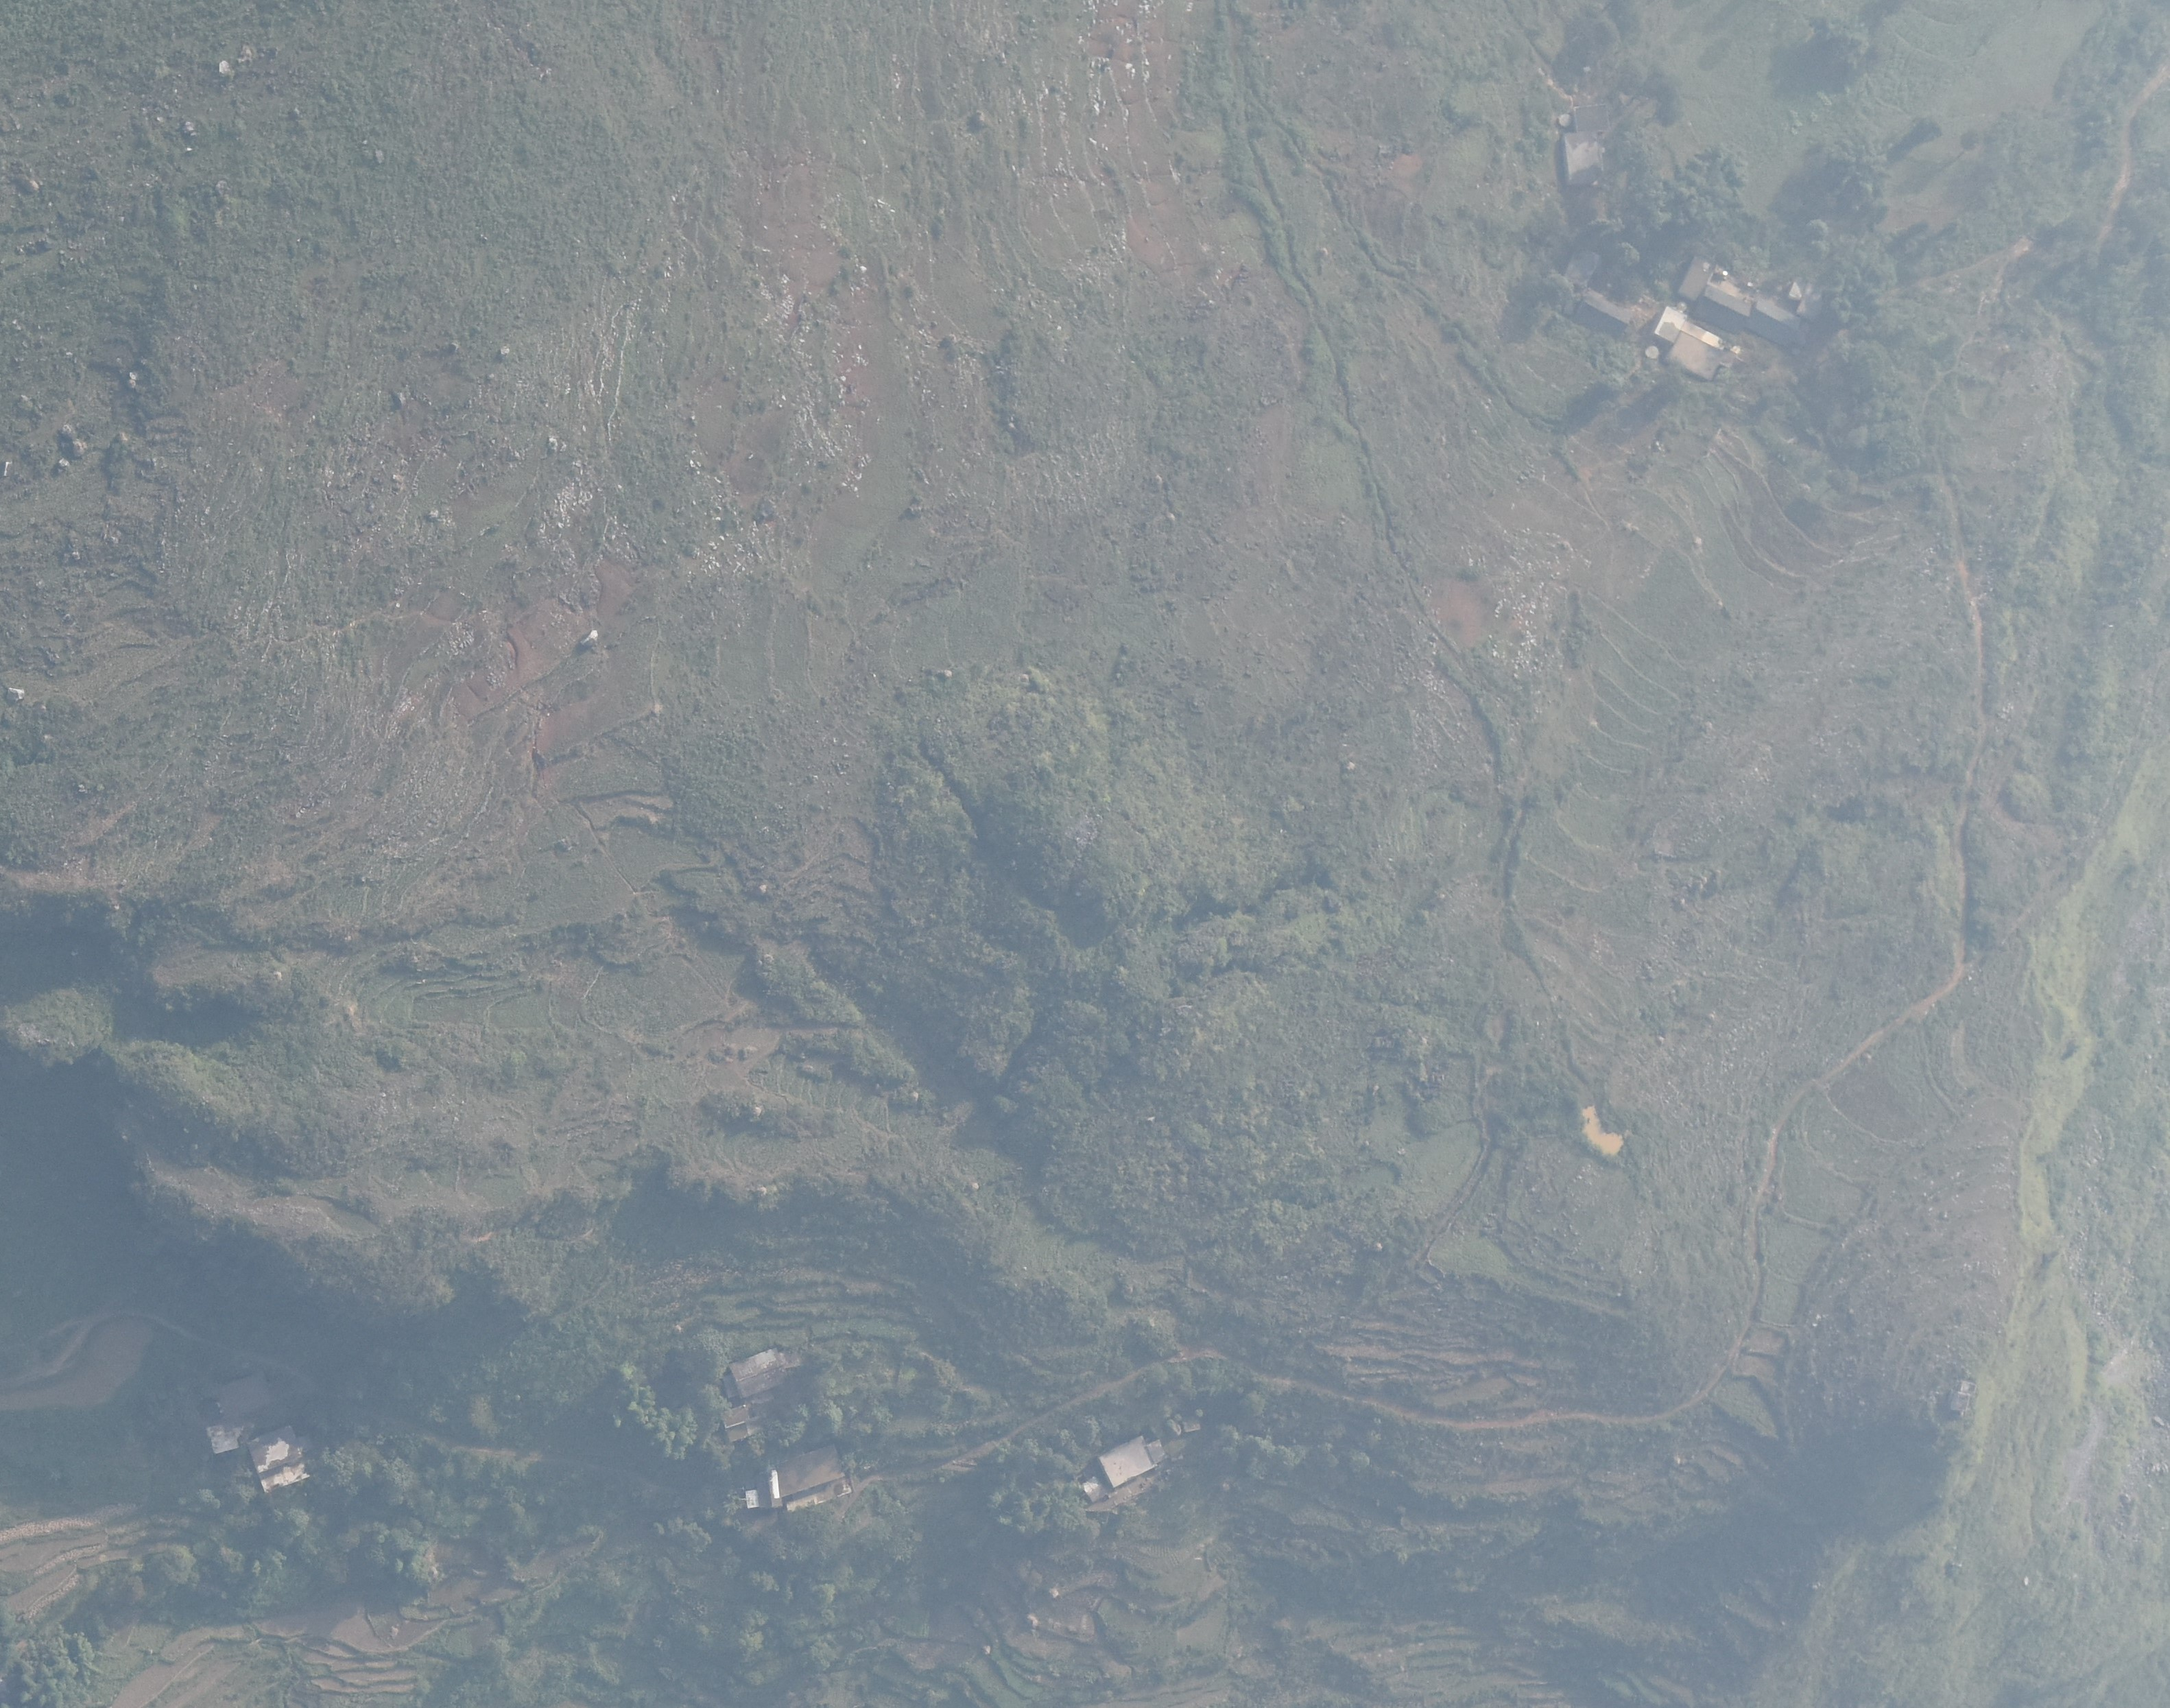building: (772, 1444, 850, 1500), (1703, 261, 1756, 321), (1746, 296, 1804, 351), (1573, 283, 1632, 336), (729, 1346, 789, 1397), (1665, 331, 1723, 382), (1560, 129, 1608, 186), (249, 1425, 305, 1473), (217, 1373, 272, 1420), (1676, 253, 1717, 305), (1560, 244, 1602, 291), (1652, 306, 1689, 344), (1797, 280, 1829, 322), (1573, 102, 1611, 134), (724, 1416, 770, 1442), (207, 1423, 241, 1456), (758, 1469, 783, 1510), (720, 1404, 751, 1428), (1788, 274, 1810, 300), (778, 1351, 806, 1369), (1719, 344, 1737, 368), (743, 1489, 759, 1508)
pool: (1572, 1102, 1626, 1159)
well: (1095, 1434, 1159, 1486), (1147, 1440, 1169, 1463), (1558, 112, 1572, 128), (1644, 346, 1660, 358), (1678, 300, 1686, 311)
